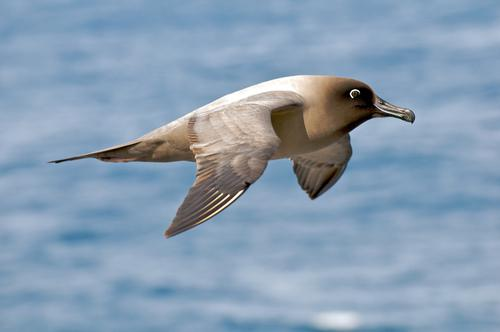003.Sooty_Albatross: (46, 75, 416, 242)
